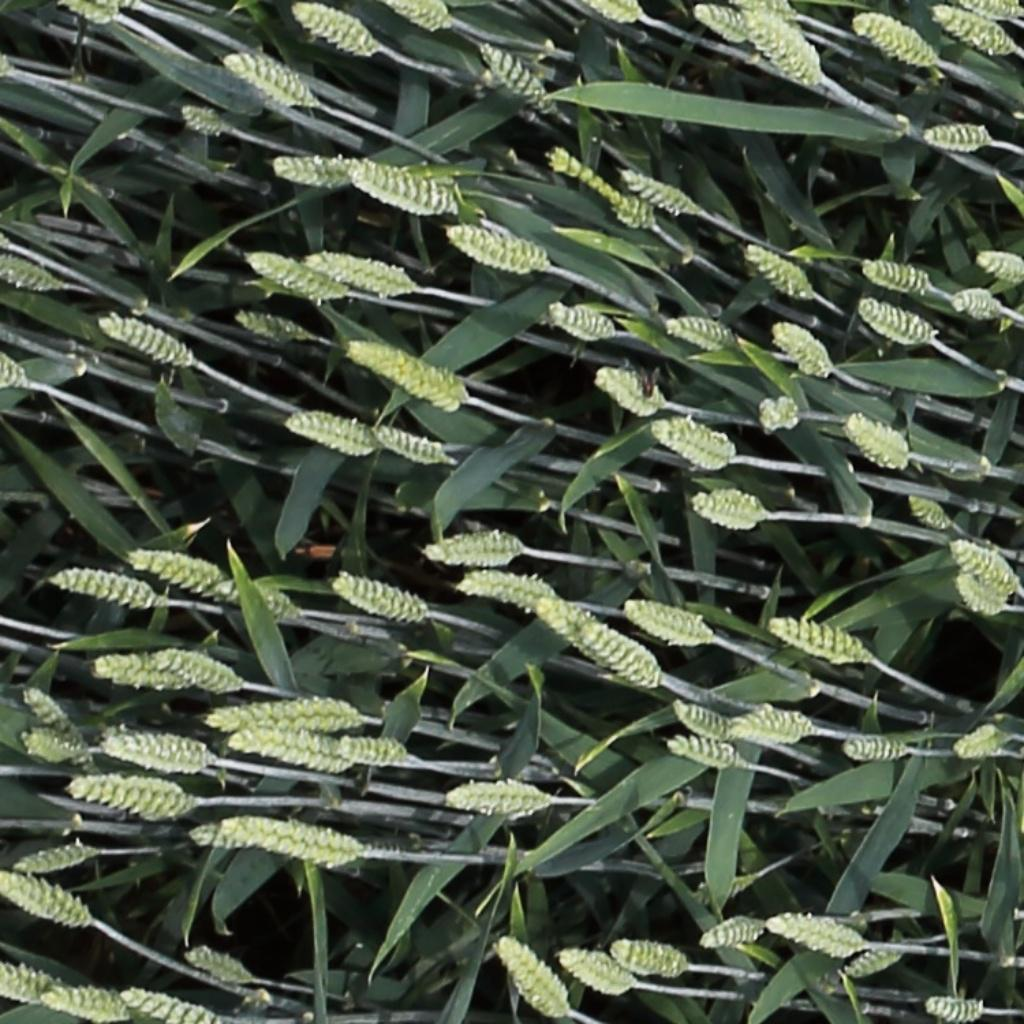0-0: (133, 551, 303, 624), (537, 599, 660, 688), (217, 814, 381, 866), (551, 144, 652, 226), (208, 684, 366, 731), (349, 341, 462, 405), (495, 935, 573, 1019), (479, 39, 561, 113), (349, 159, 458, 210), (752, 20, 828, 91), (20, 682, 90, 755), (249, 248, 348, 299), (0, 873, 91, 928), (446, 222, 550, 270), (226, 53, 319, 105), (99, 314, 195, 364), (767, 617, 873, 662), (229, 733, 352, 771), (331, 574, 430, 621), (181, 822, 309, 858), (293, 1, 378, 54), (72, 780, 192, 817), (95, 640, 189, 686), (857, 13, 940, 65), (426, 525, 527, 567), (308, 251, 415, 290), (744, 241, 815, 299), (458, 563, 558, 604), (652, 419, 738, 466), (770, 916, 871, 954), (935, 5, 1013, 53), (693, 482, 765, 534), (619, 166, 700, 212), (626, 602, 716, 643), (285, 412, 379, 451), (159, 649, 244, 692), (101, 737, 210, 770), (950, 540, 1019, 592), (860, 297, 936, 344), (448, 777, 552, 811), (50, 572, 158, 604), (846, 415, 913, 466), (774, 319, 836, 374), (558, 950, 638, 992), (334, 732, 413, 773), (121, 989, 215, 1022), (596, 367, 659, 416), (374, 424, 451, 462), (20, 733, 96, 770), (726, 712, 809, 743), (694, 2, 756, 43), (675, 701, 737, 742), (236, 309, 315, 341), (184, 947, 252, 984), (546, 303, 619, 337), (0, 251, 65, 289), (42, 991, 131, 1018), (666, 740, 745, 770), (669, 318, 742, 350), (861, 259, 936, 290), (610, 943, 689, 972), (955, 572, 1008, 615), (12, 847, 95, 873), (0, 963, 54, 998), (907, 492, 954, 531), (271, 158, 360, 178), (845, 948, 903, 978), (739, 0, 810, 23), (391, 0, 451, 27), (701, 922, 765, 947), (974, 248, 1024, 278), (954, 290, 1006, 316), (925, 998, 987, 1019), (0, 335, 25, 387), (180, 101, 225, 129), (922, 126, 995, 143), (64, 0, 114, 24), (954, 733, 1004, 757), (595, 0, 644, 23), (845, 744, 912, 759), (965, 0, 1024, 16)
